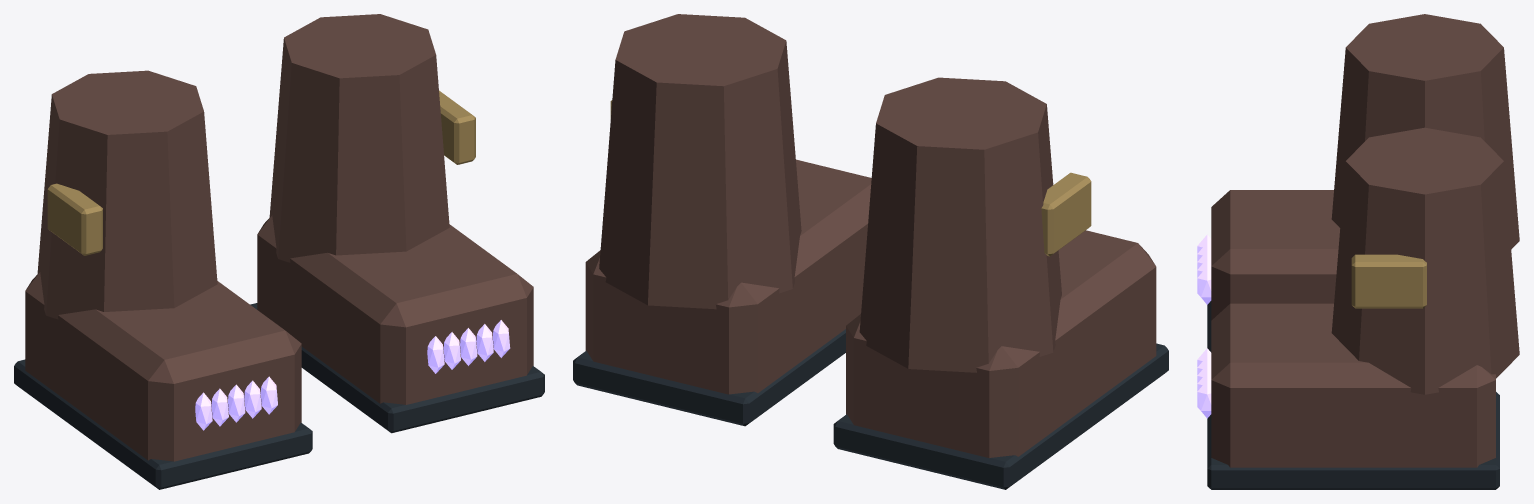
The model's file is gear_boots.glb.
The picture shows the model from 3 angles, left to right: view 1: azimuth 30°, elevation 25°; view 2: azimuth 150°, elevation 25°; view 3: azimuth 270°, elevation 25°; orthographic projection. The views are drawn at different scales.
Parts seen in each view (by area): view 1: Boot shaft.001, Boot shaft, Turned boot toe, Turned boot toe.001, Leather sole, Leather sole.001, Boot buckle, Boot buckle.001; view 2: Boot shaft.001, Boot shaft, Turned boot toe, Turned boot toe.001, Leather sole, Leather sole.001, Boot buckle; view 3: Boot shaft.001, Turned boot toe.001, Boot shaft, Turned boot toe, Leather sole.001, Boot buckle.001, Boot rune.008, Boot rune.009.
Boxes of the visible parts, left/top/right/bottom form: Boot shaft.001: left=269, top=14, right=449, bottom=262; Boot shaft: left=37, top=70, right=217, bottom=319; Turned boot toe: left=25, top=272, right=301, bottom=461; Turned boot toe.001: left=257, top=215, right=533, bottom=404; Leather sole: left=14, top=359, right=312, bottom=489; Leather sole.001: left=250, top=303, right=544, bottom=433; Boot buckle: left=47, top=183, right=102, bottom=255; Boot buckle.001: left=439, top=90, right=475, bottom=164; Boot shaft.001: left=599, top=14, right=801, bottom=309; Boot shaft: left=859, top=77, right=1061, bottom=372; Turned boot toe: left=846, top=230, right=1156, bottom=458; Turned boot toe.001: left=585, top=159, right=871, bottom=394; Leather sole: left=833, top=343, right=1168, bottom=489; Leather sole.001: left=573, top=329, right=845, bottom=426; Boot buckle: left=1041, top=172, right=1091, bottom=256; Boot shaft.001: left=1331, top=127, right=1519, bottom=394; Turned boot toe.001: left=1211, top=303, right=1495, bottom=467; Boot shaft: left=1331, top=14, right=1519, bottom=249; Turned boot toe: left=1211, top=190, right=1340, bottom=320; Leather sole.001: left=1207, top=392, right=1499, bottom=489; Boot buckle.001: left=1351, top=254, right=1426, bottom=308; Boot rune.008: left=1197, top=266, right=1211, bottom=304; Boot rune.009: left=1197, top=380, right=1211, bottom=418.
Size of the model in its own units: 0.58 by 0.4075 by 0.4078.
